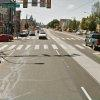Crosswalk: (1, 42, 73, 60)
